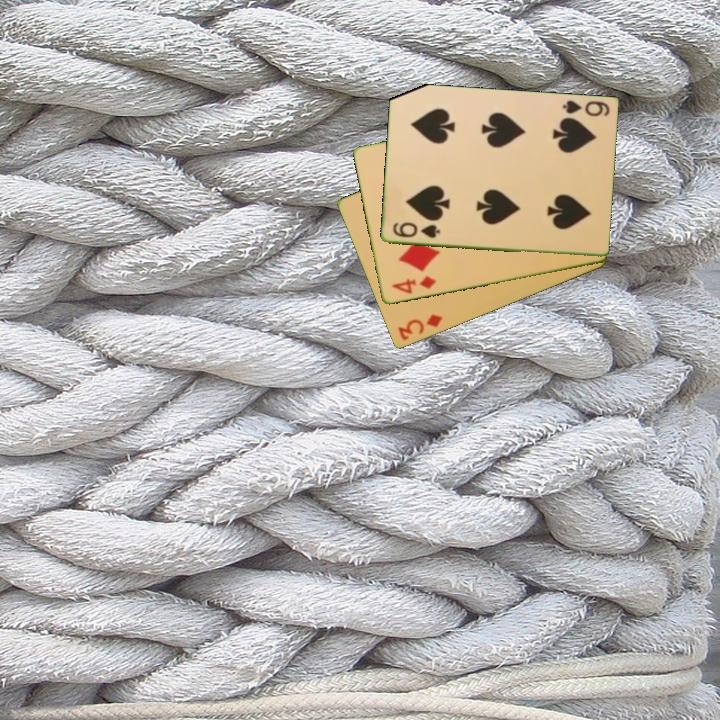3d: (394, 311, 445, 344)
4d: (388, 273, 439, 297)
6s: (389, 219, 442, 241), (559, 97, 612, 119)
